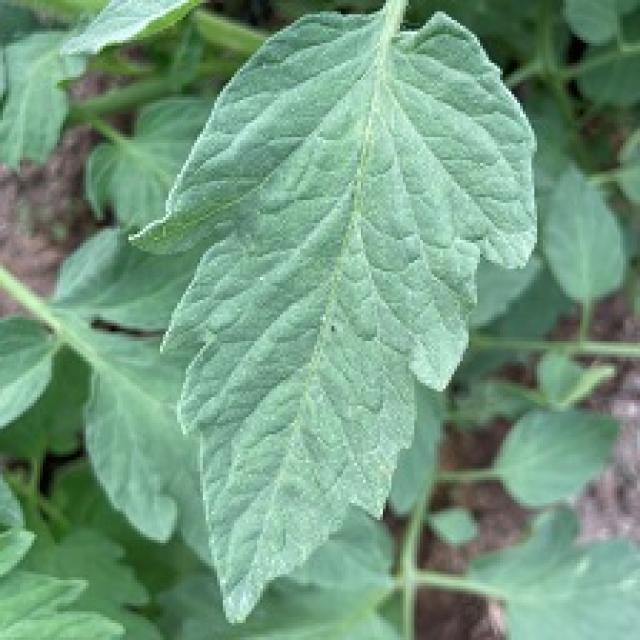Healthy: (0, 0, 617, 640)
